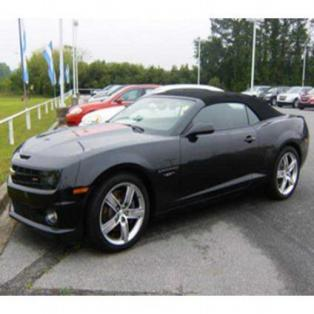Auto: (4, 84, 312, 256)
